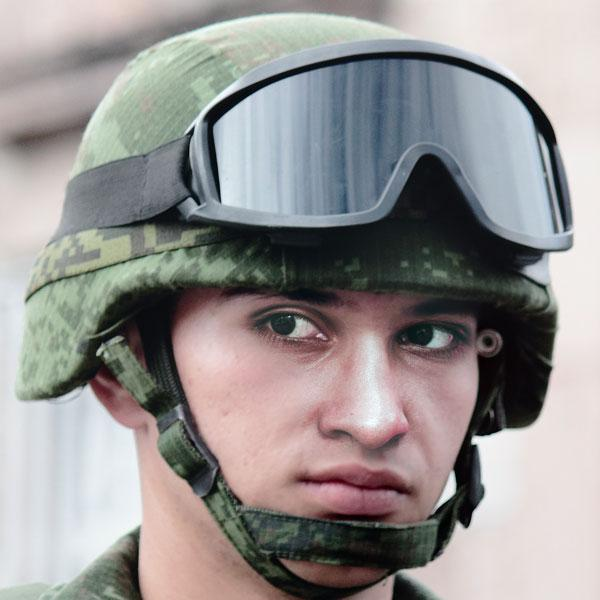Eyes: (244, 296, 338, 357), (384, 311, 471, 362)
